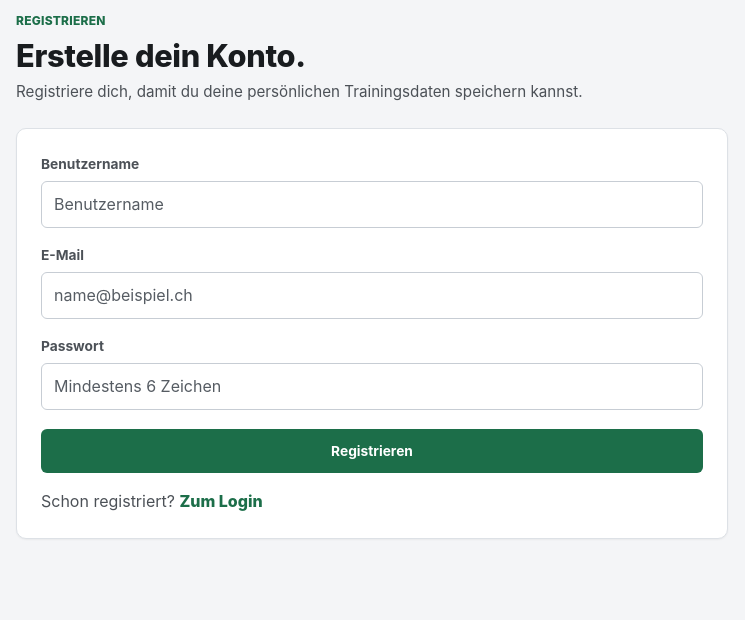
it: RegisterView › a plain server error still shows the generic register-failed message, unaffected by the new 429 branch
In the field with id "username": (372, 204) [41,181,703,228], type "newuser"
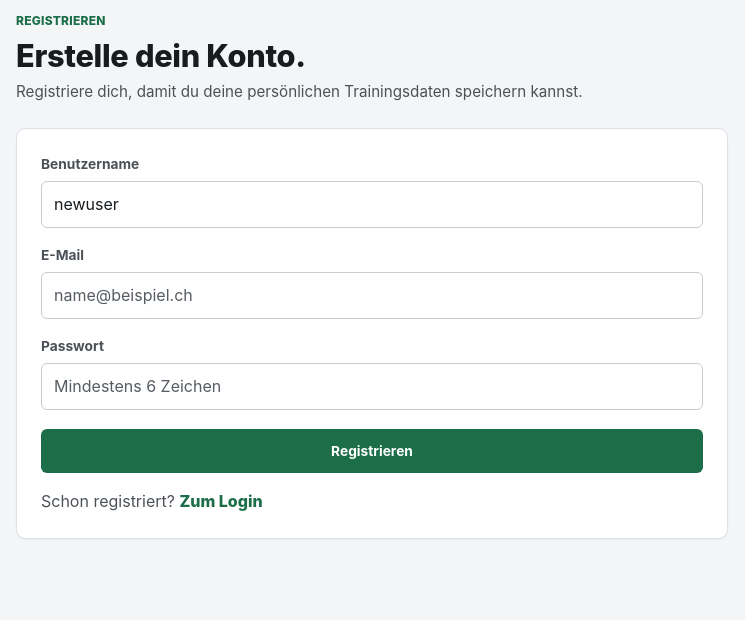
In the field with id "email": (372, 296) [41,272,703,319], type "newuser@example.test"
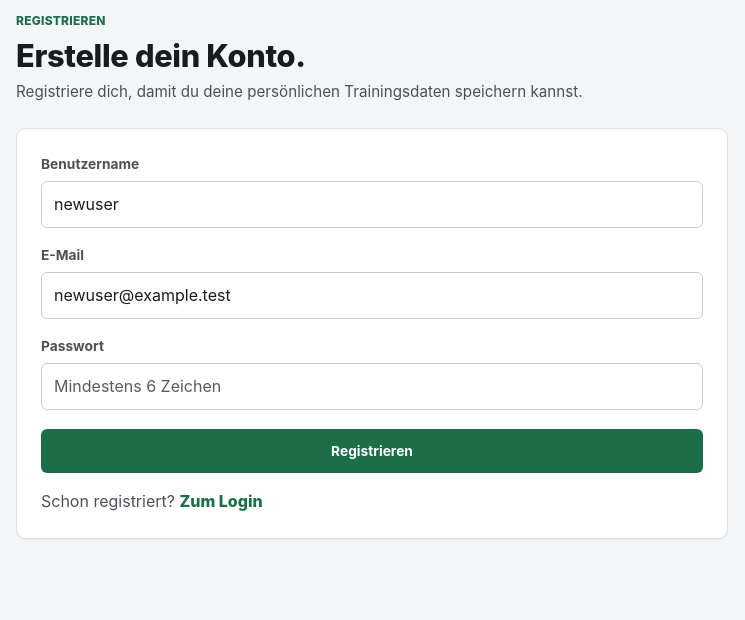
In the password field labelled "Passwort": (372, 386) [41,363,703,410], type "a-strong-password"
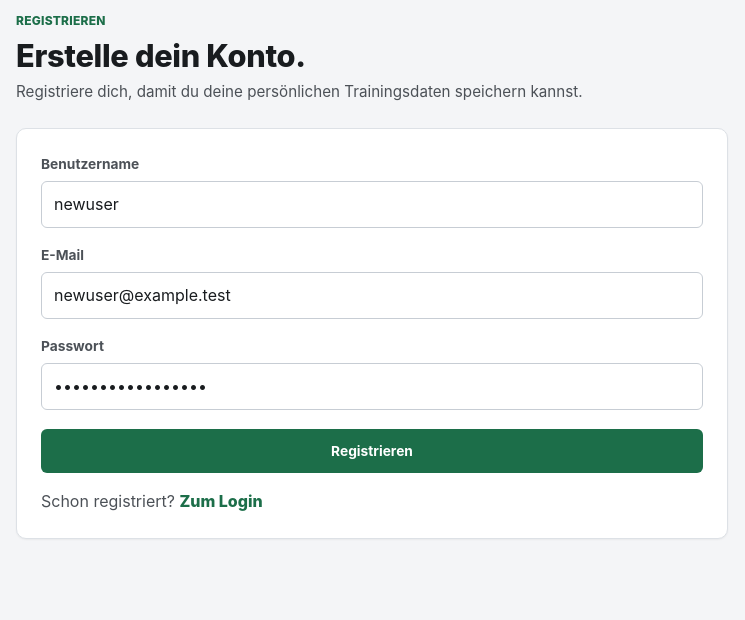
Submit the form, box [41,153,703,473]
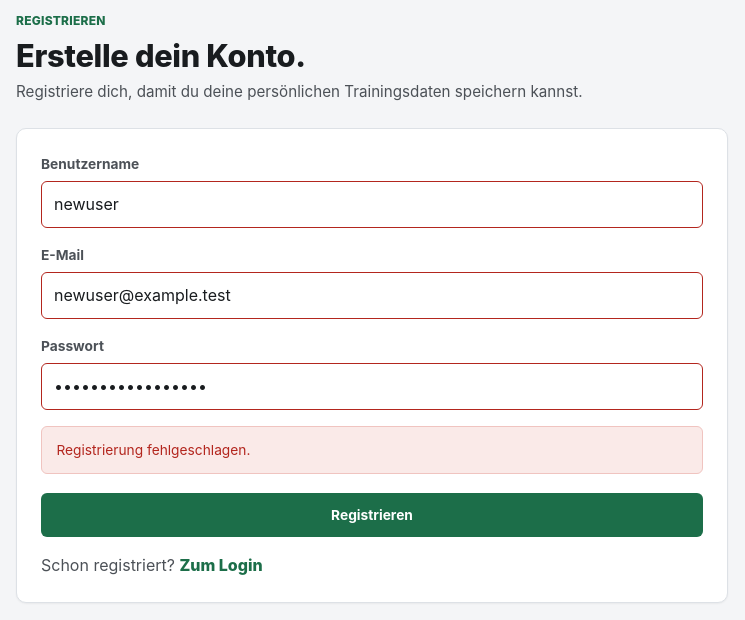
Expected: the submit button is enabled, [41,494,703,537]
Now the message "Registrierung fehlgeschlagen." is shown, box [41,426,703,474]
